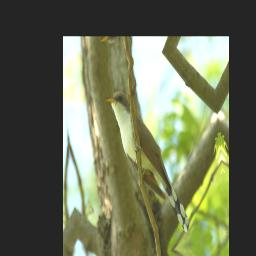Cuckoo: (105, 73, 189, 253)
